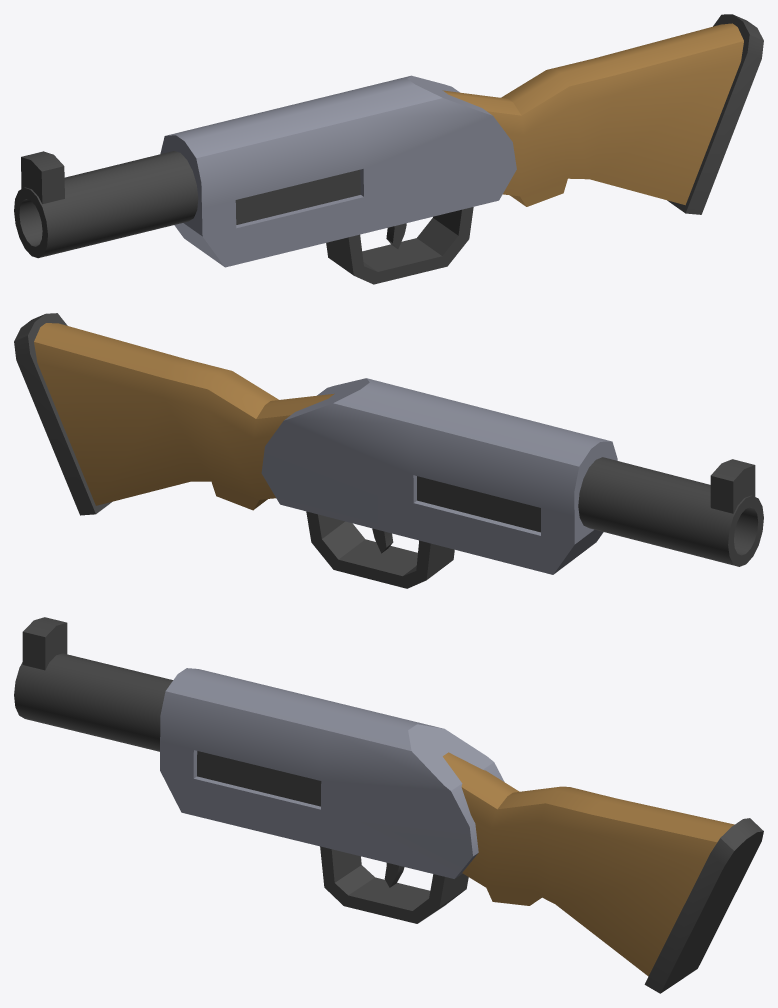
File: gun-shortcannon.glb
3 renders of one model, top to bottom at view 1: azimuth 30°, elevation 25°; view 2: azimuth 150°, elevation 25°; view 3: azimuth 330°, elevation 25°, orthographic.
Parts seen in each view (by area): view 1: ShortCannon; view 2: ShortCannon; view 3: ShortCannon.
Boxes of the visible parts, left/top/right/bottom form: ShortCannon: left=14, top=14, right=763, bottom=284; ShortCannon: left=14, top=313, right=763, bottom=588; ShortCannon: left=14, top=617, right=763, bottom=993.
Size of the model in its own units: 1.21 by 0.3141 by 0.1318.
